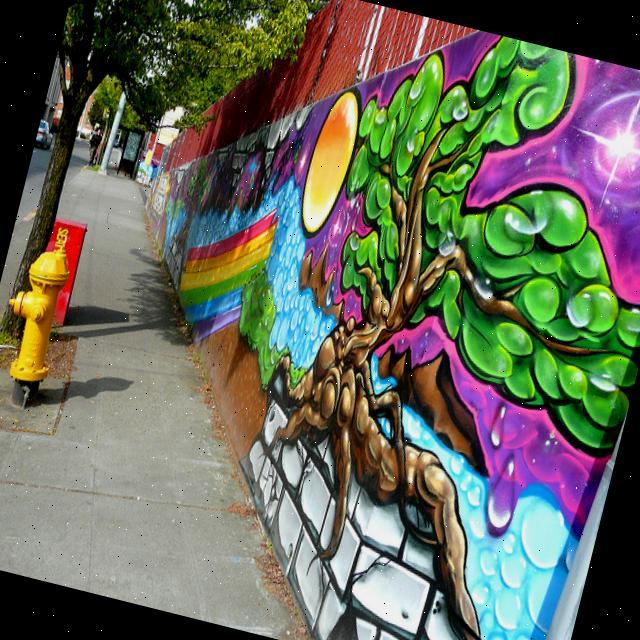fire_hydrant: (0, 233, 79, 415)
